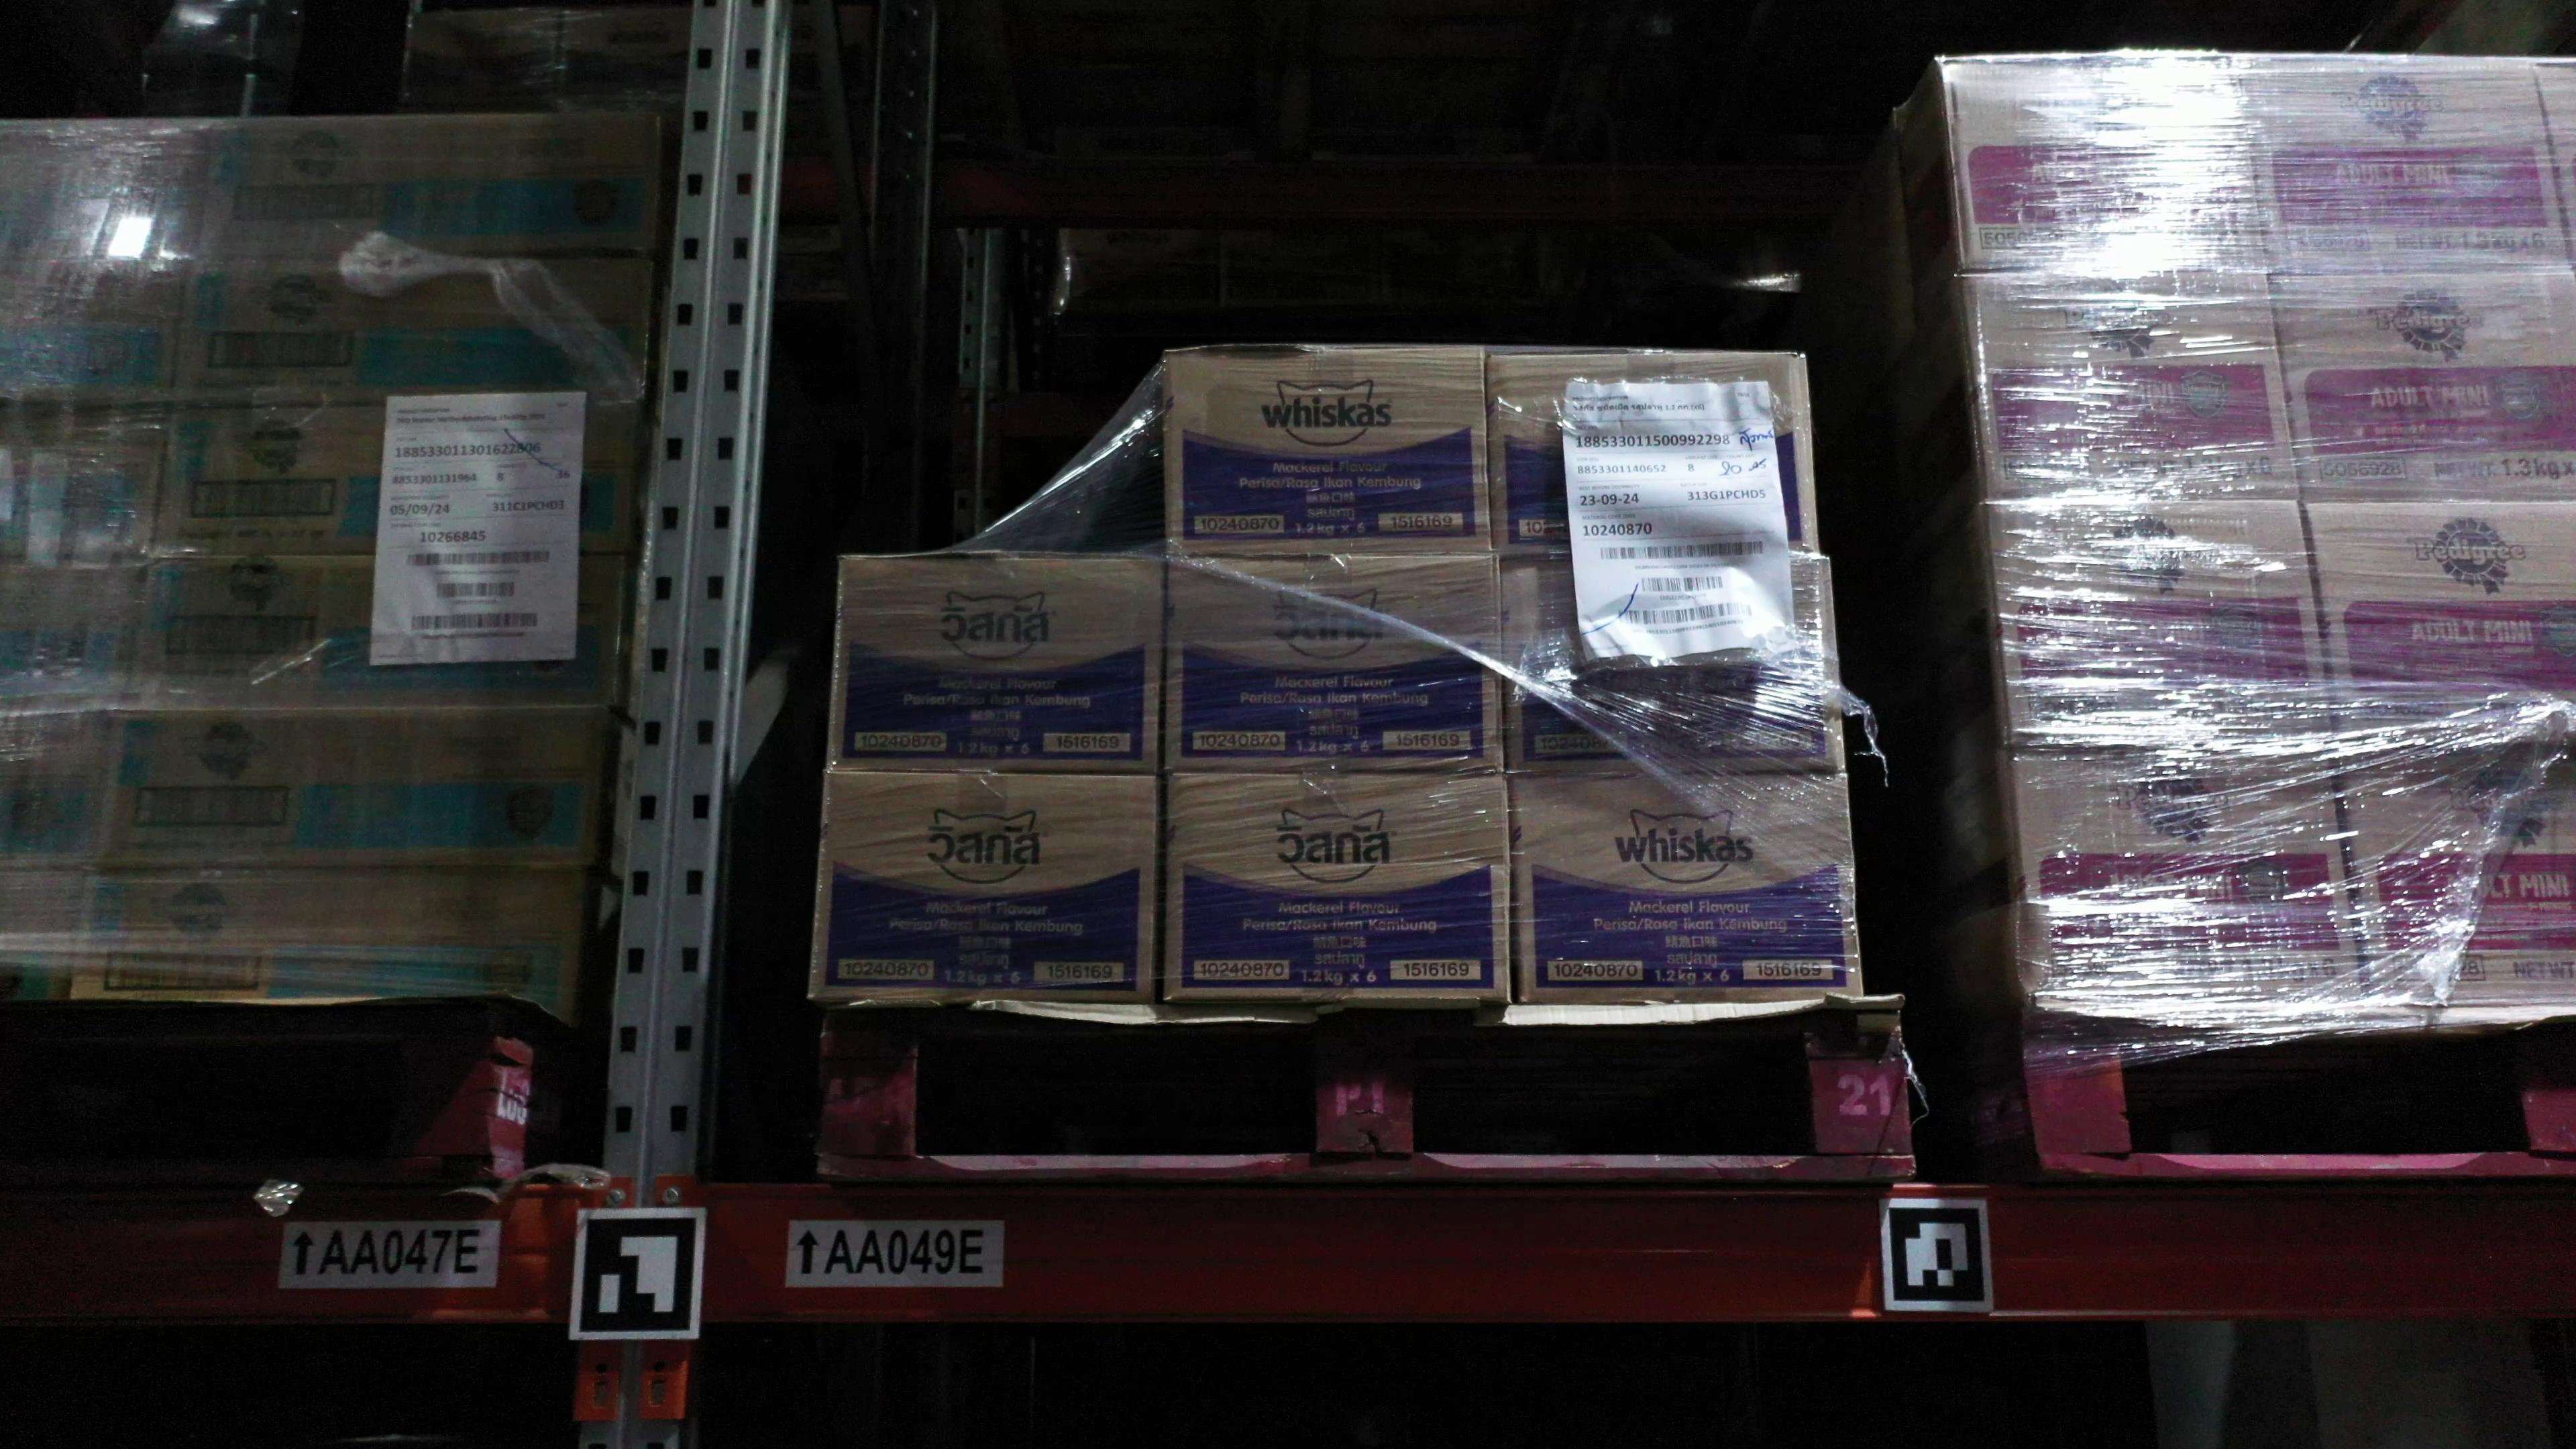-: (2013, 747, 2371, 1019), (1989, 497, 2337, 752), (87, 704, 596, 876), (807, 764, 1161, 1003), (1159, 770, 1509, 1003), (65, 870, 582, 1024), (1518, 771, 1863, 1001), (1966, 269, 2304, 502), (119, 554, 625, 709), (147, 400, 637, 559), (828, 550, 1164, 773), (1162, 552, 1500, 771), (1506, 557, 1851, 771), (170, 251, 651, 403), (2270, 269, 2576, 506), (2240, 58, 2576, 274), (1490, 349, 1821, 557), (2302, 499, 2576, 748), (1948, 60, 2265, 274), (1169, 347, 1493, 554), (202, 117, 660, 255), (2341, 745, 2576, 1008), (0, 117, 218, 260), (0, 255, 196, 405), (0, 402, 172, 557), (0, 554, 147, 711), (0, 704, 119, 872), (0, 865, 87, 1000)
